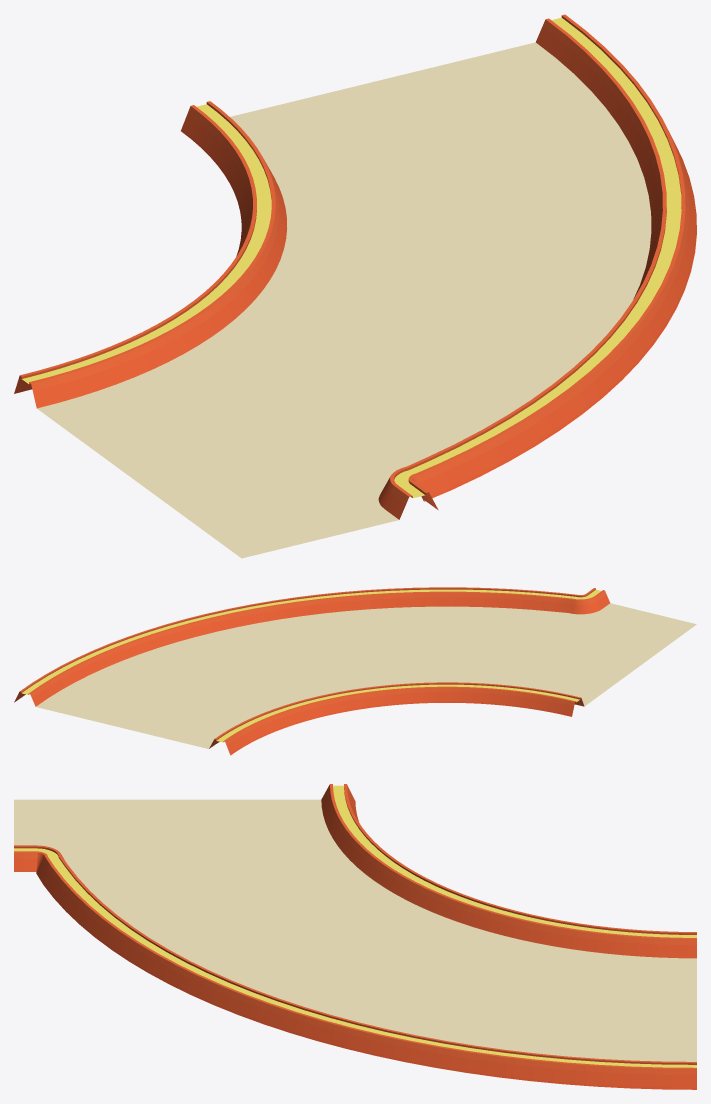
File: sm_path_futuristic_bigcurveexit.fbx
3 renders of one model, top to bottom at view 1: azimuth 30°, elevation 25°; view 2: azimuth 150°, elevation 25°; view 3: azimuth 270°, elevation 25°, orthographic. The views are drawn at different scales.
Parts seen in each view (by area): view 1: sm_path_futuristic_bigcurveexit; view 2: sm_path_futuristic_bigcurveexit; view 3: sm_path_futuristic_bigcurveexit.
Boxes of the visible parts, x1,y1,x2,y2 form: sm_path_futuristic_bigcurveexit: [14, 14, 696, 558]; sm_path_futuristic_bigcurveexit: [14, 587, 696, 755]; sm_path_futuristic_bigcurveexit: [14, 784, 696, 1089].
Size of the model in its own units: 600 by 600 by 16.6.
